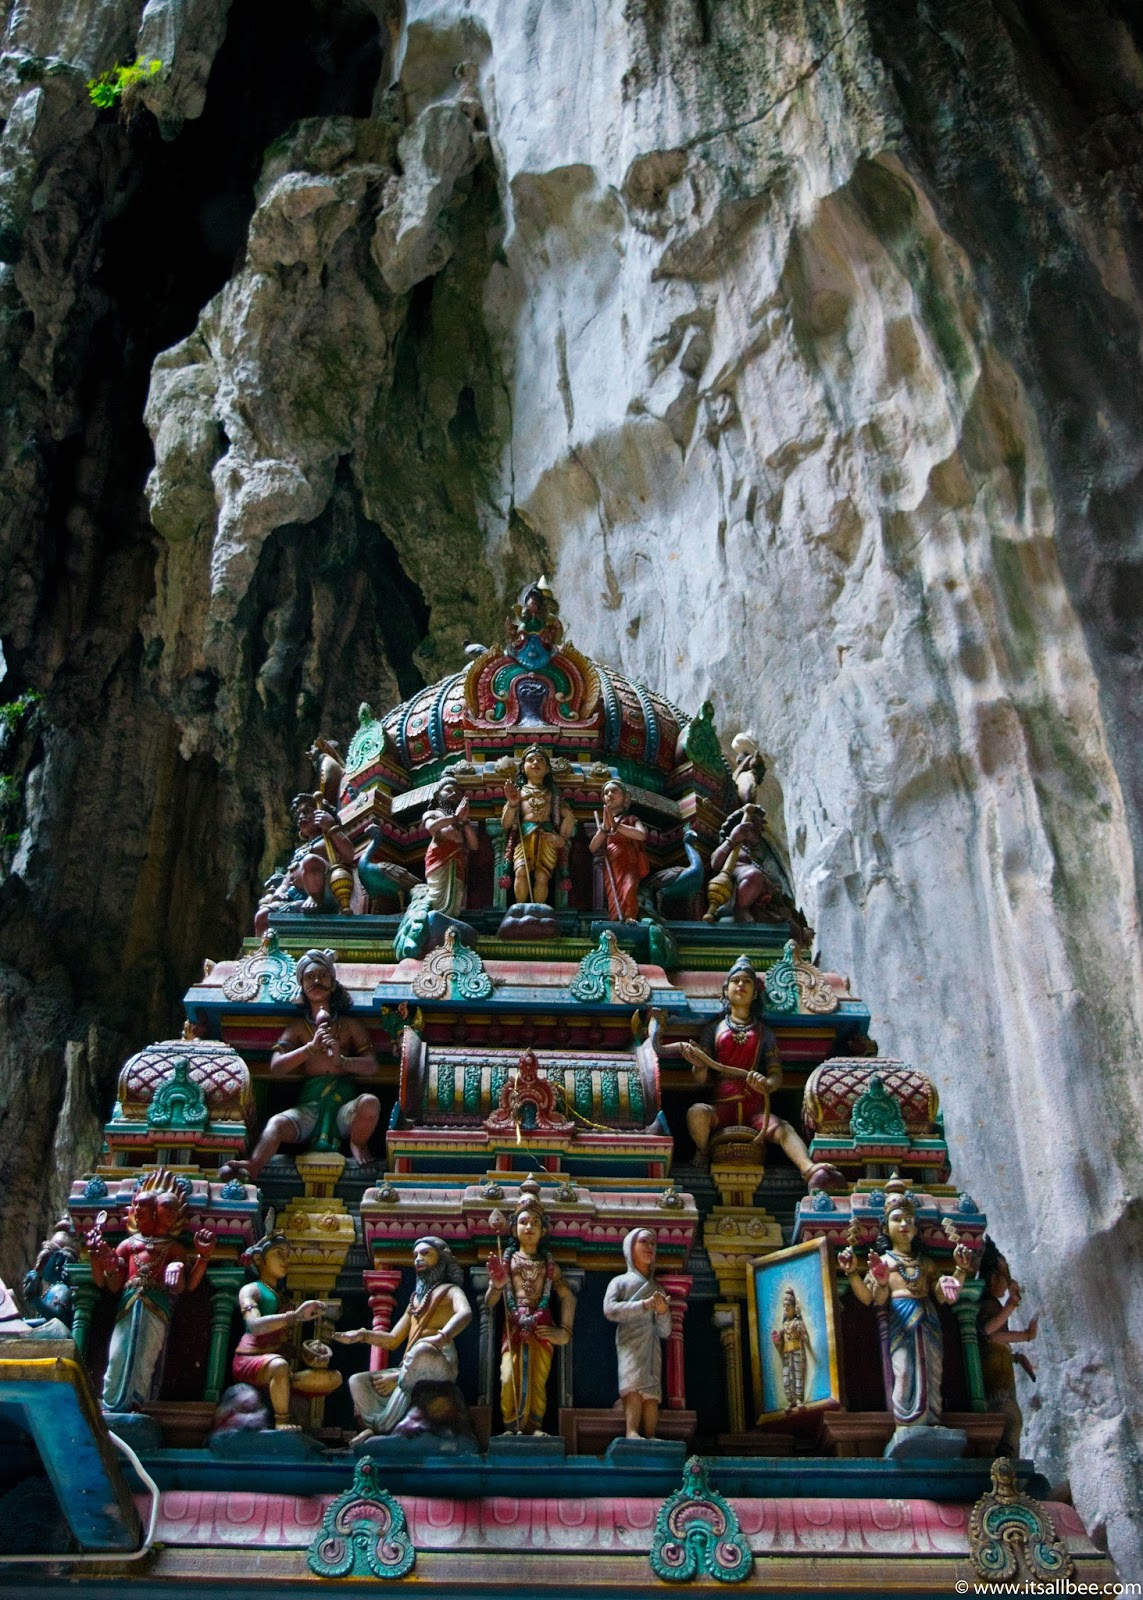Hindu Temple: (121, 592, 1023, 1509)
